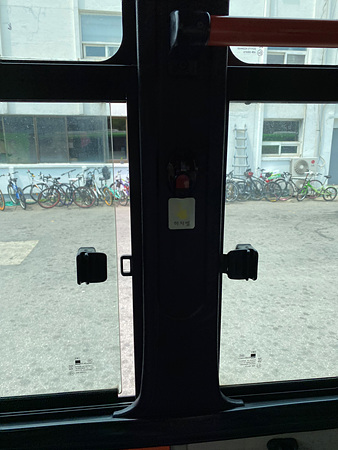bell: (167, 158, 197, 199)
